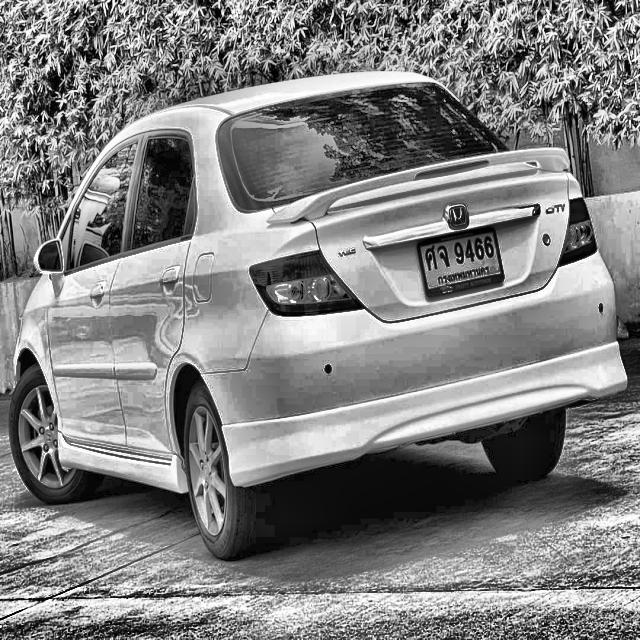license-plate: (415, 222, 504, 303)
